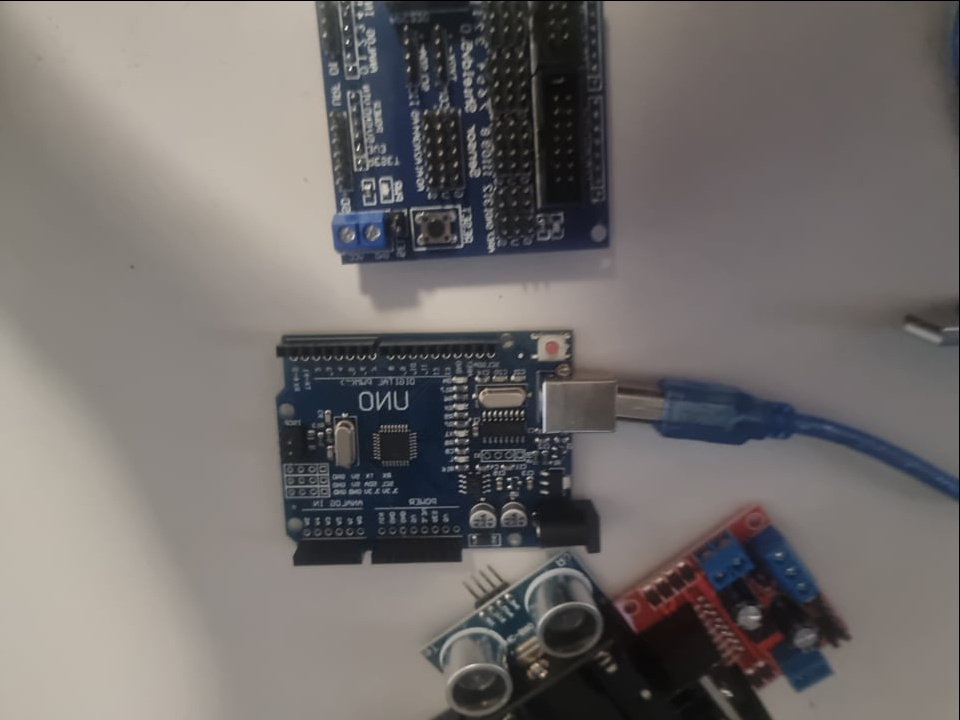5V EXPANSION: (314, 0, 609, 266)
MOTOR: (622, 497, 856, 717)
SENSOR: (423, 556, 610, 714)
UNO R3: (268, 320, 622, 576)
